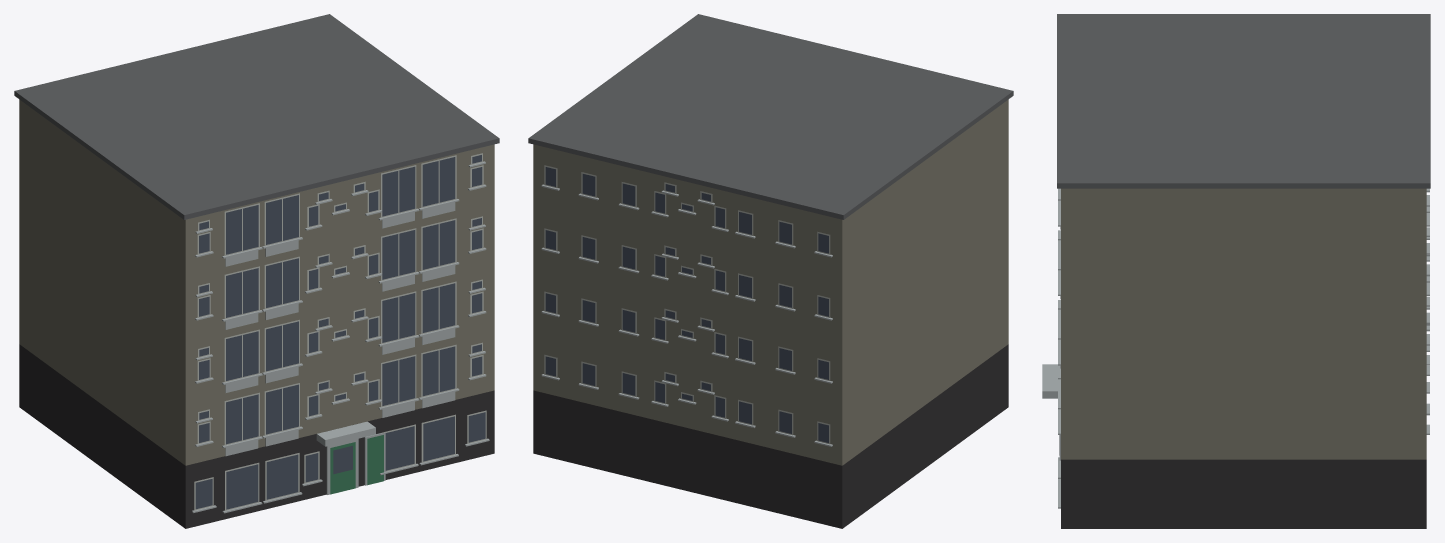
File: nw-loggia-stack-flat-5st__grey__5__flat__long__solid.glb
3 renders of one model, left to right at view 1: azimuth 30°, elevation 25°; view 2: azimuth 150°, elevation 25°; view 3: azimuth 270°, elevation 25°, orthographic. The views are drawn at different scales.
Parts seen in each view (by area): view 1: nw-loggia-stack-flat-5st__grey__5__flat__long__solid; view 2: nw-loggia-stack-flat-5st__grey__5__flat__long__solid; view 3: nw-loggia-stack-flat-5st__grey__5__flat__long__solid.
Boxes of the visible parts, left/top/right/bottom form: nw-loggia-stack-flat-5st__grey__5__flat__long__solid: left=14, top=14, right=499, bottom=528; nw-loggia-stack-flat-5st__grey__5__flat__long__solid: left=528, top=14, right=1013, bottom=528; nw-loggia-stack-flat-5st__grey__5__flat__long__solid: left=1042, top=14, right=1430, bottom=528.
Bounding box in the file's own units: 14.9 × 14.27 × 14.45.
